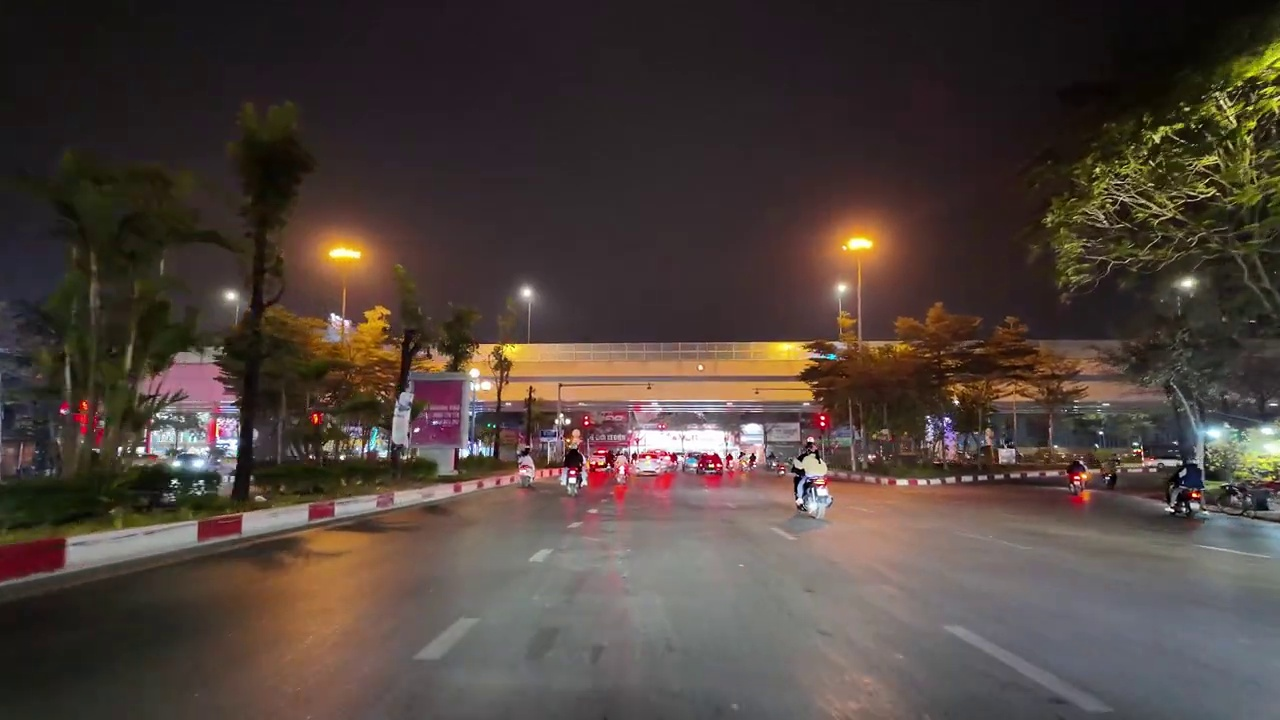acesa: (322, 238, 368, 273), (840, 229, 879, 261), (513, 281, 540, 309), (218, 285, 245, 312), (1174, 273, 1200, 296)
